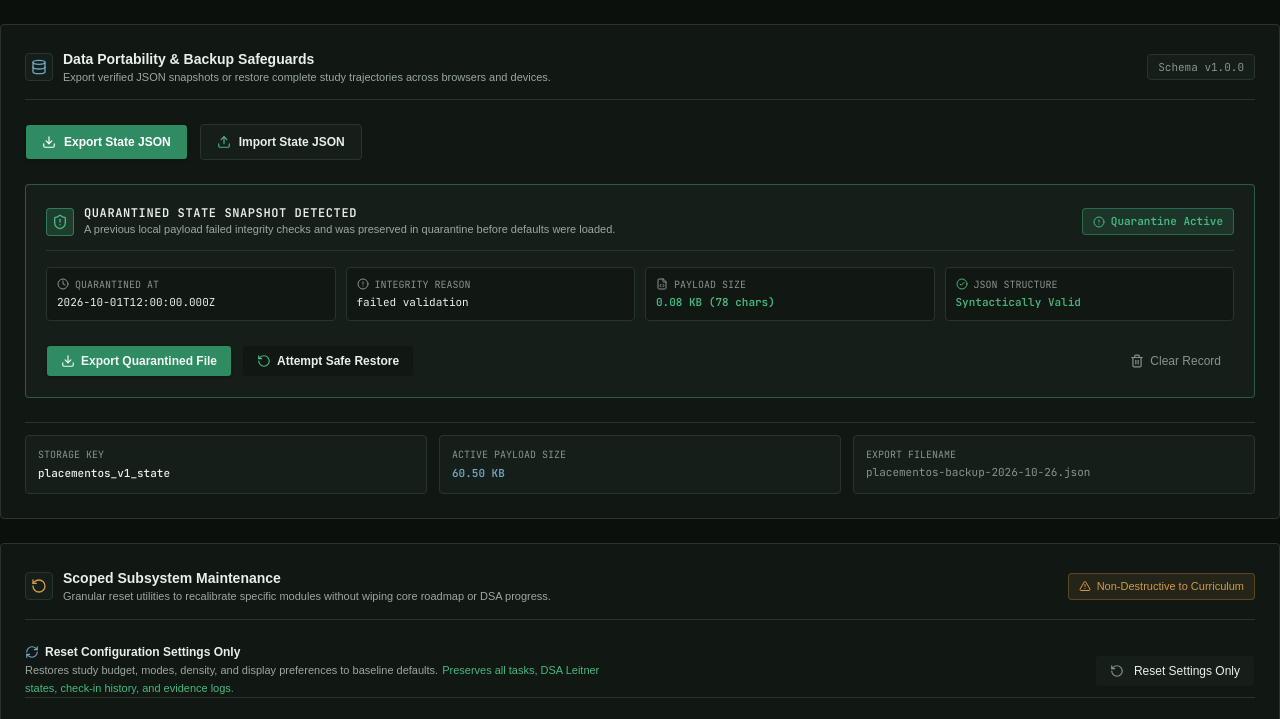
Scenario: Task 153 — Quarantined Storage Inspection & Safe Recovery › Attempting safe restore with invalid schema is rejected and does not mutate active state
(page scrolled)
// Click Attempt Safe Restore
Click the button with test id "restore-quarantine-btn" at x=328, y=361, box top-left (242, 345), bottom-right (414, 377)
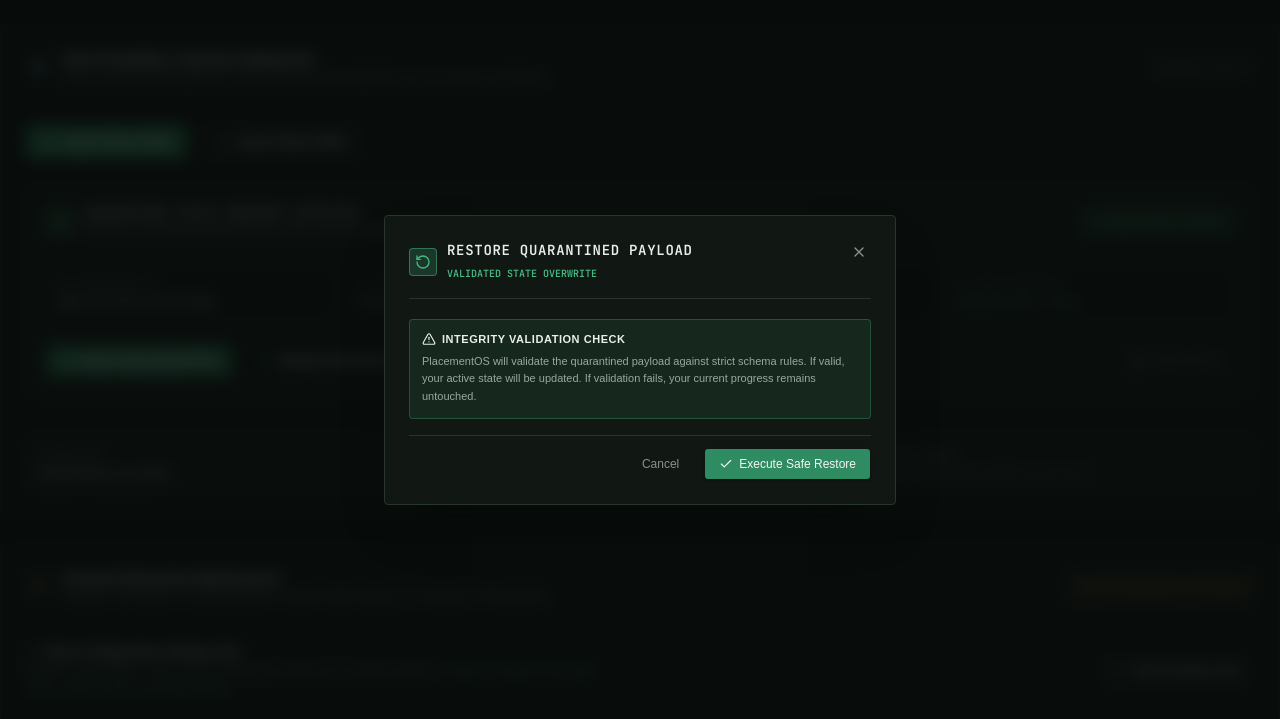
Now the heading "Restore Quarantined Payload" is shown, box top-left (447, 240), bottom-right (693, 260)
// Click confirm
Click the button "Execute Safe Restore" at x=788, y=464, box top-left (704, 448), bottom-right (871, 480)
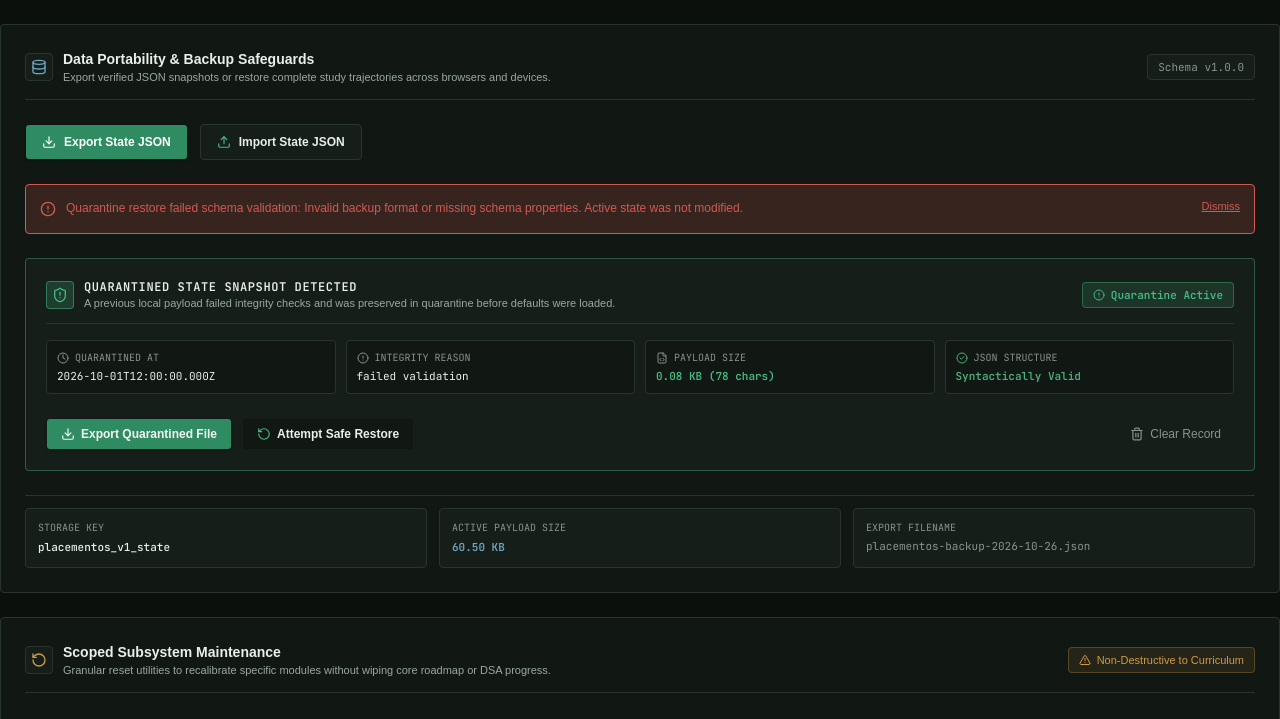
Now the text "Quarantine restore failed schema validation" is shown, box top-left (66, 201), bottom-right (743, 215)
